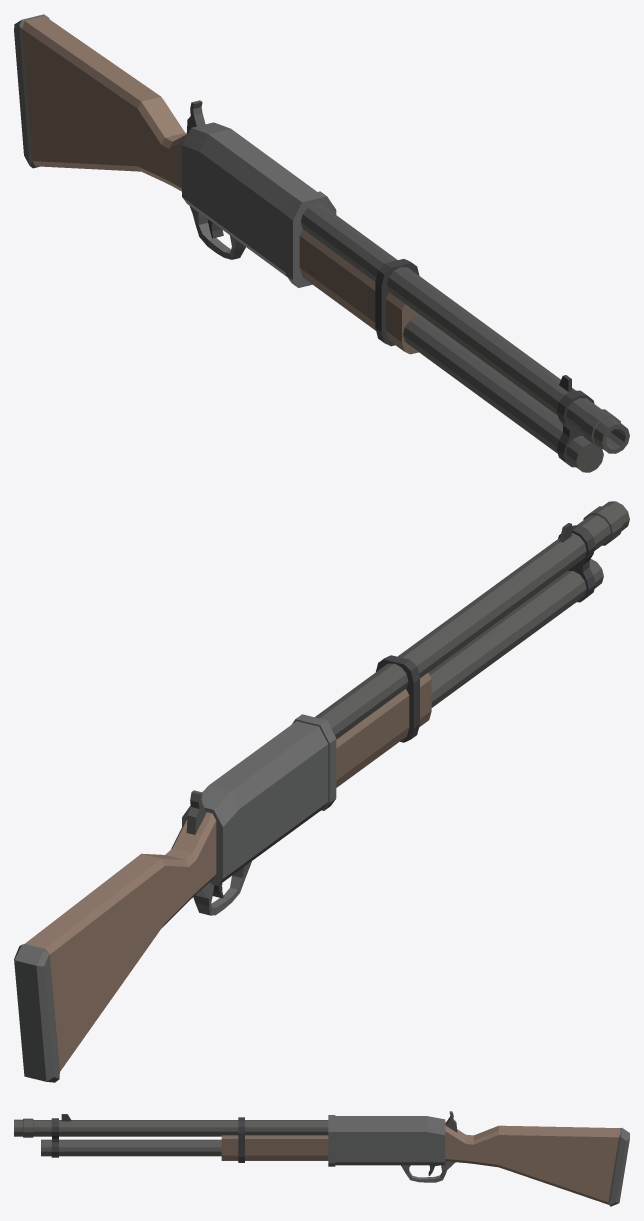
The model's file is shotgun_2.glb.
The picture shows the model from 3 angles, top to bottom: view 1: azimuth 30°, elevation 25°; view 2: azimuth 150°, elevation 25°; view 3: azimuth 270°, elevation 25°; orthographic projection. The views are drawn at different scales.
Parts seen in each view (by area): view 1: shotgun_2; view 2: shotgun_2; view 3: shotgun_2.
Part boxes in pixels (x1,y1,x2,y2): shotgun_2: [14, 14, 629, 472]; shotgun_2: [14, 501, 629, 1082]; shotgun_2: [14, 1111, 629, 1206].
Size of the model in its own units: 0.0447 by 0.1723 by 1.05.
